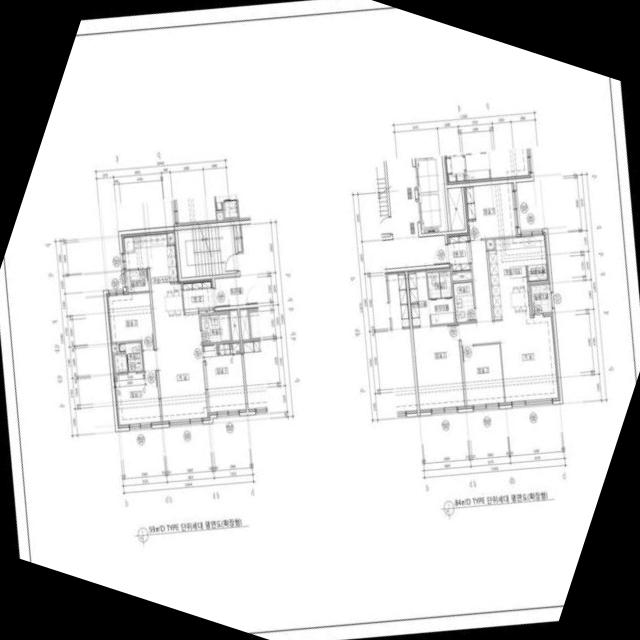background: (0, 0, 640, 640)
space_bedroom: (413, 325, 464, 412), (204, 342, 246, 414), (465, 182, 518, 239), (106, 292, 154, 349), (462, 343, 504, 408), (113, 371, 161, 427)
space_dressroom: (408, 271, 430, 326)
space_elevator: (418, 192, 448, 233), (415, 156, 445, 194)
space_elevator_hall: (382, 159, 447, 269), (214, 223, 258, 307)
space_front: (182, 278, 214, 312), (448, 235, 471, 271)
space_kitchen: (121, 230, 184, 317), (489, 234, 546, 319)
space_living_room: (460, 240, 558, 404), (143, 314, 210, 424)
space_other: (447, 187, 465, 230), (429, 297, 454, 324), (527, 263, 549, 281), (229, 309, 240, 340), (452, 271, 472, 281), (236, 224, 242, 251), (486, 239, 494, 249), (111, 343, 118, 353)
space_outdoor_room: (531, 284, 552, 313), (124, 269, 149, 292)
space_staircase: (177, 225, 237, 277), (374, 161, 390, 236)
space_toilet: (452, 281, 475, 322), (114, 342, 143, 372), (201, 314, 230, 342), (427, 270, 452, 298)
